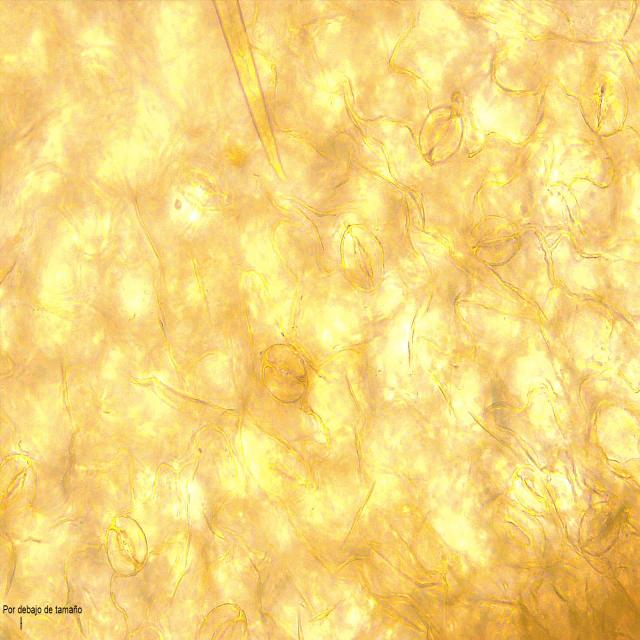Stomata: (490, 500, 547, 565), (171, 152, 232, 212), (579, 68, 630, 138), (339, 222, 387, 293), (260, 341, 310, 406), (104, 512, 150, 578), (418, 105, 463, 167), (468, 215, 521, 267), (578, 500, 622, 557), (0, 452, 39, 515), (196, 601, 249, 640)
